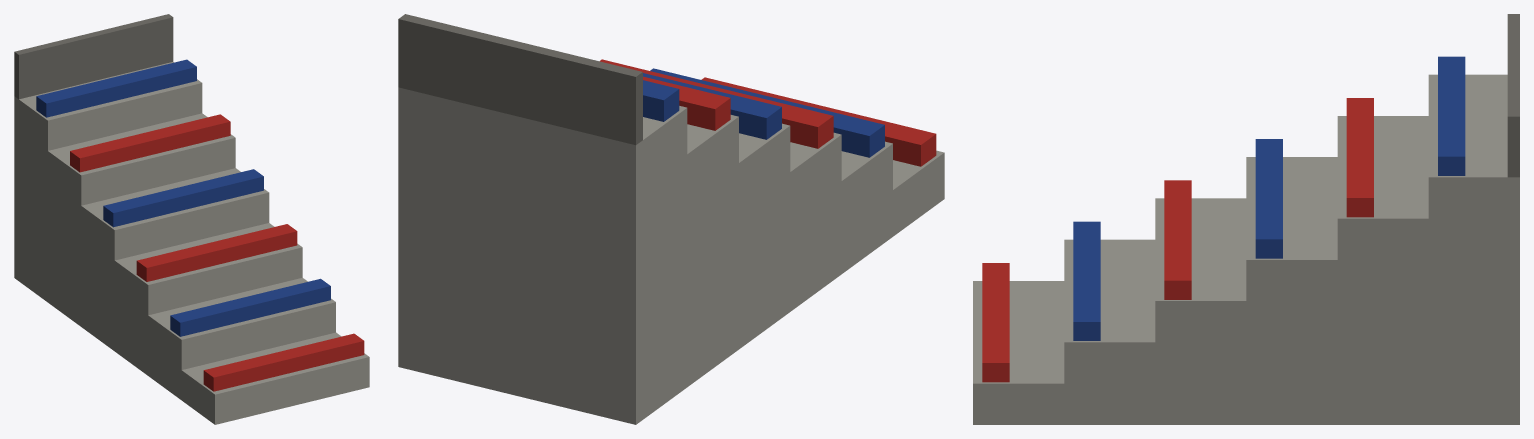
The model's file is cs_stand.glb.
3 views of the same model, side by side, from view 1: azimuth 30°, elevation 25°; view 2: azimuth 150°, elevation 25°; view 3: azimuth 270°, elevation 25° (orthographic). The views are drawn at different scales.
Visible parts, largest first — view 1: city_cs_stand; view 2: city_cs_stand; view 3: city_cs_stand.
Boxes of the visible parts, x1,y1,x2,y2 form: city_cs_stand: [14, 14, 369, 424]; city_cs_stand: [398, 14, 944, 424]; city_cs_stand: [973, 14, 1519, 424].
Size of the model in its own units: 4 by 5.6 by 9.
Materials: 1 (1 with a texture image).
